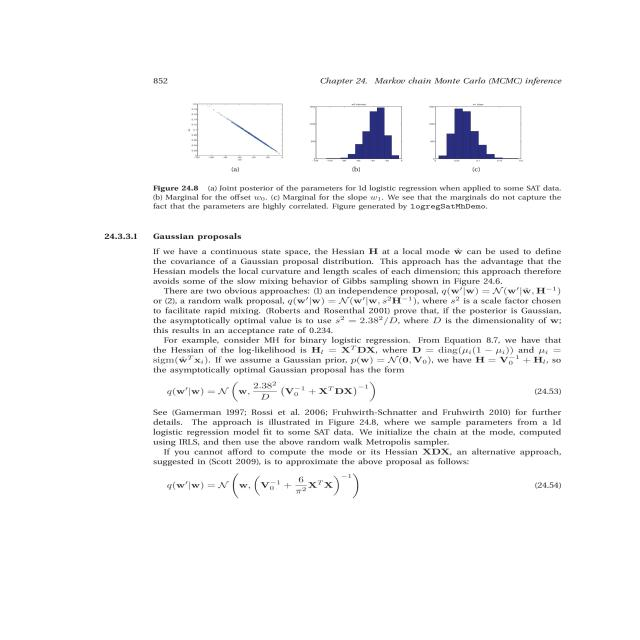diagram: (110, 99, 600, 228)
